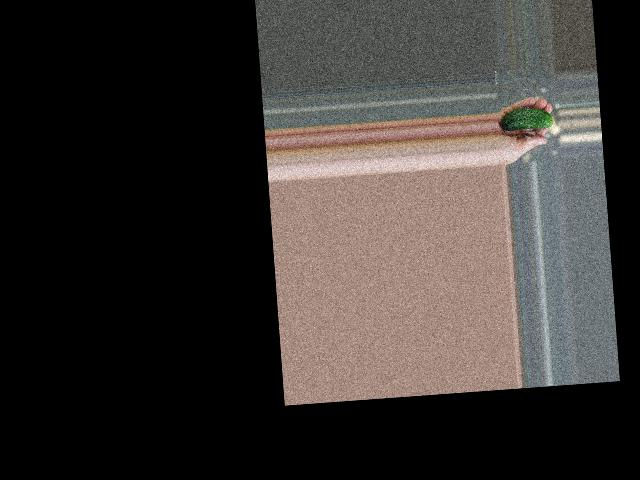cucumber: (499, 105, 552, 131)
